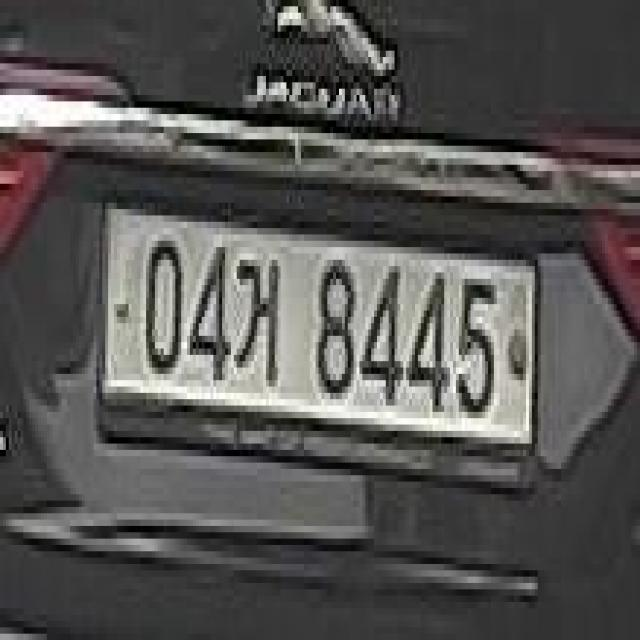illegal_plate: (94, 194, 544, 501)
